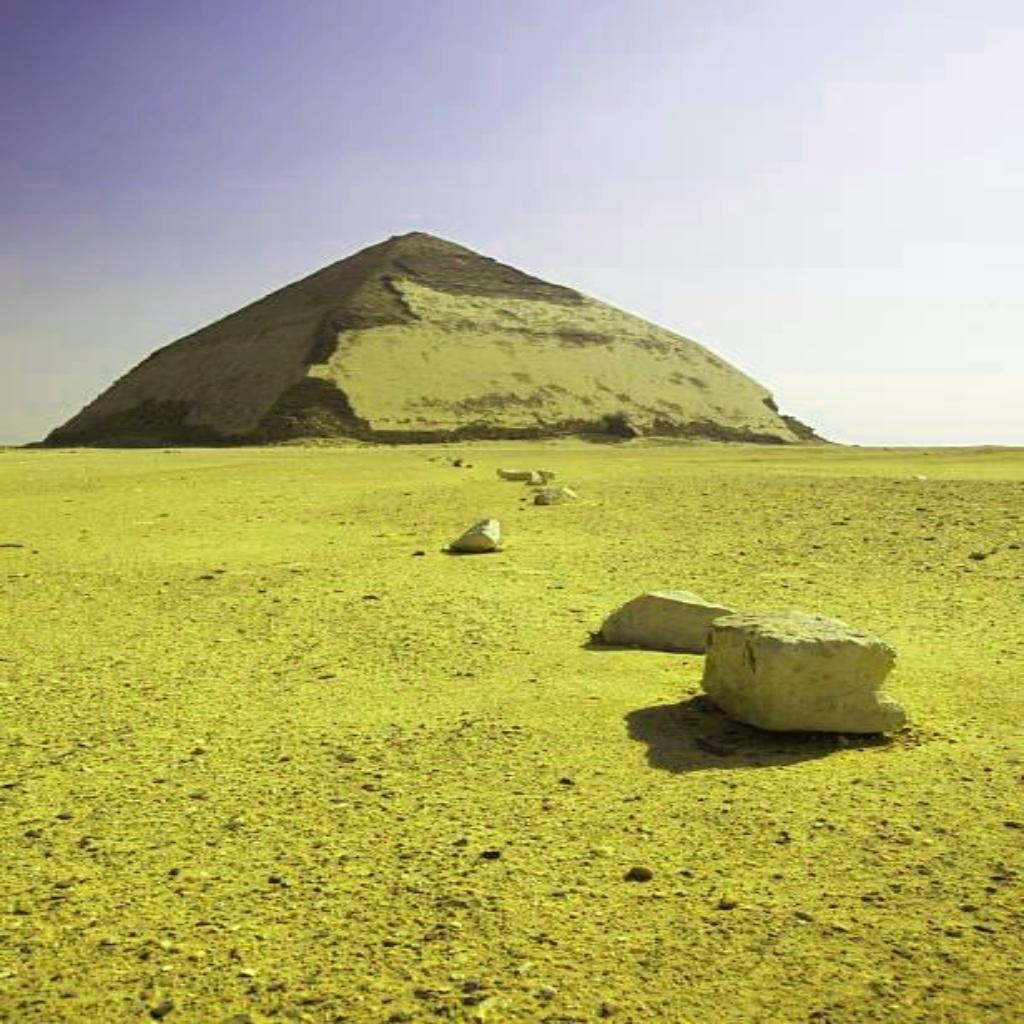Bent Pyramid of King Sneferu: (32, 226, 838, 450)
